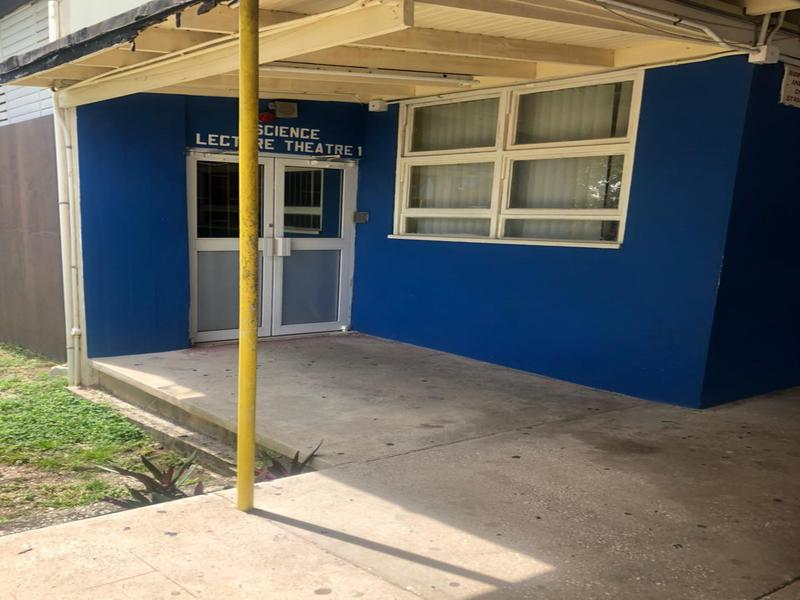slt1_door: (171, 110, 366, 337)
